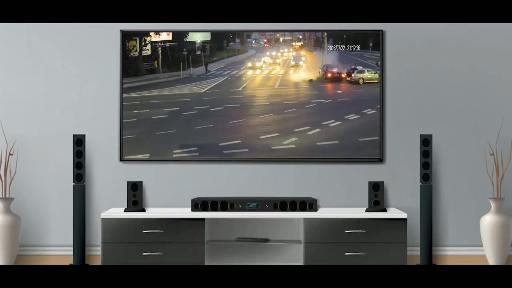Accident-fire-smoke: (299, 47, 383, 100)
